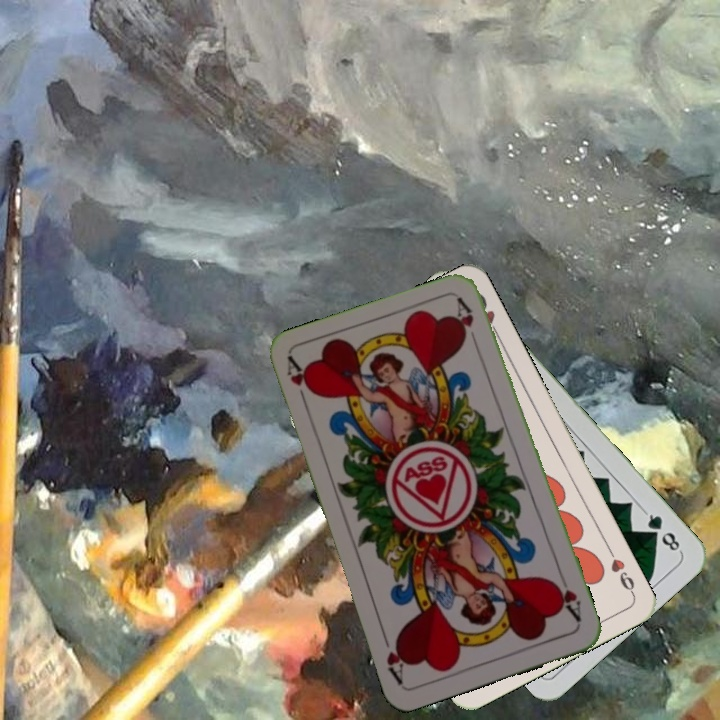G8: (640, 507, 684, 555)
H9: (603, 543, 637, 598)
HA: (282, 354, 317, 412), (549, 569, 584, 625)
